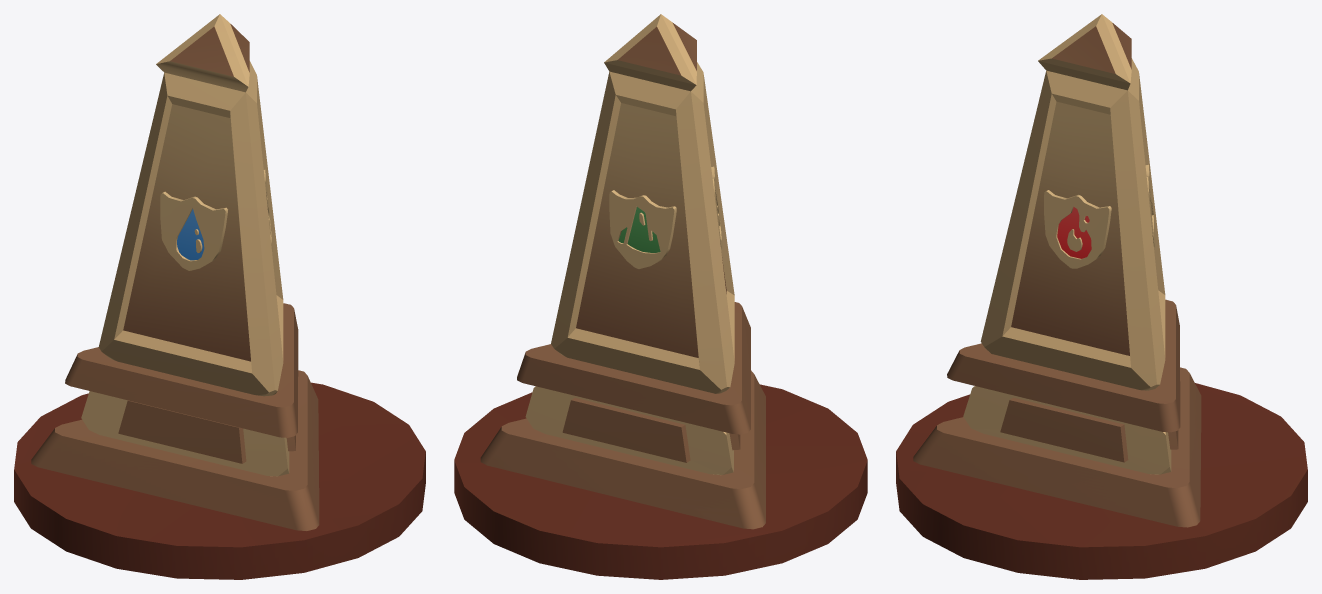
Rendered from puzzle1.fbx.
The picture shows the model from 3 angles, left to right: view 1: azimuth 30°, elevation 25°; view 2: azimuth 150°, elevation 25°; view 3: azimuth 270°, elevation 25°; orthographic projection.
Visible parts, largest first — view 1: memorial, ground, water; view 2: memorial, ground, earth; view 3: memorial, ground, fire.
Part boxes in pixels (<box>): memorial: <box>31,14,319,530</box>; ground: <box>14,382,425,579</box>; water: <box>160,191,227,270</box>; memorial: <box>480,14,765,529</box>; ground: <box>454,384,867,579</box>; earth: <box>609,190,676,268</box>; memorial: <box>913,14,1201,527</box>; ground: <box>896,383,1307,579</box>; fire: <box>1044,190,1111,268</box>.
Bounding box in the file's own units: 104 × 133 × 104.
